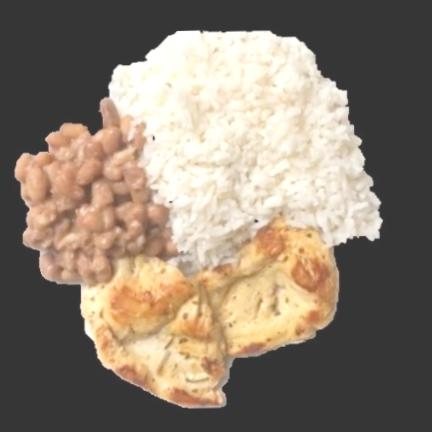beans: (12, 98, 178, 285)
chicken: (83, 220, 338, 406)
rice: (112, 28, 376, 269)
